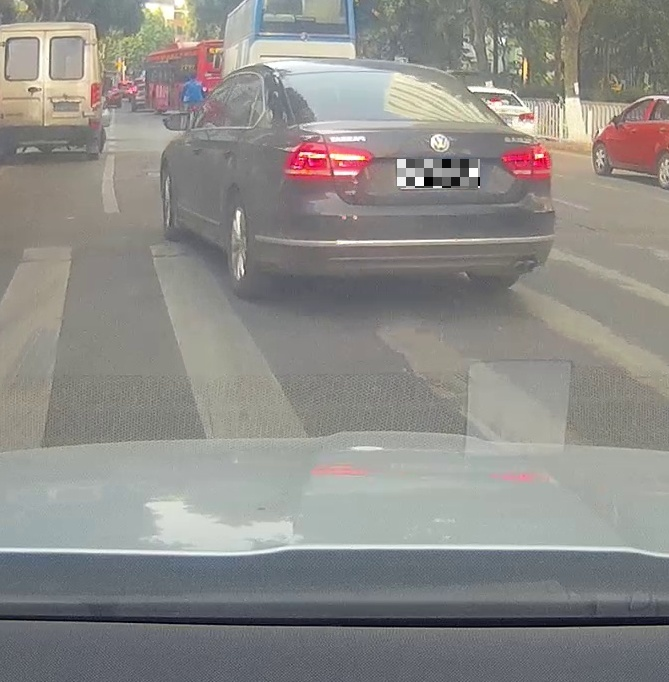L_light: (281, 140, 373, 182)
R_light: (501, 143, 551, 180)
T_light: (365, 71, 408, 83)
day-no: (268, 59, 556, 305)
plate_1: (397, 159, 480, 188)
